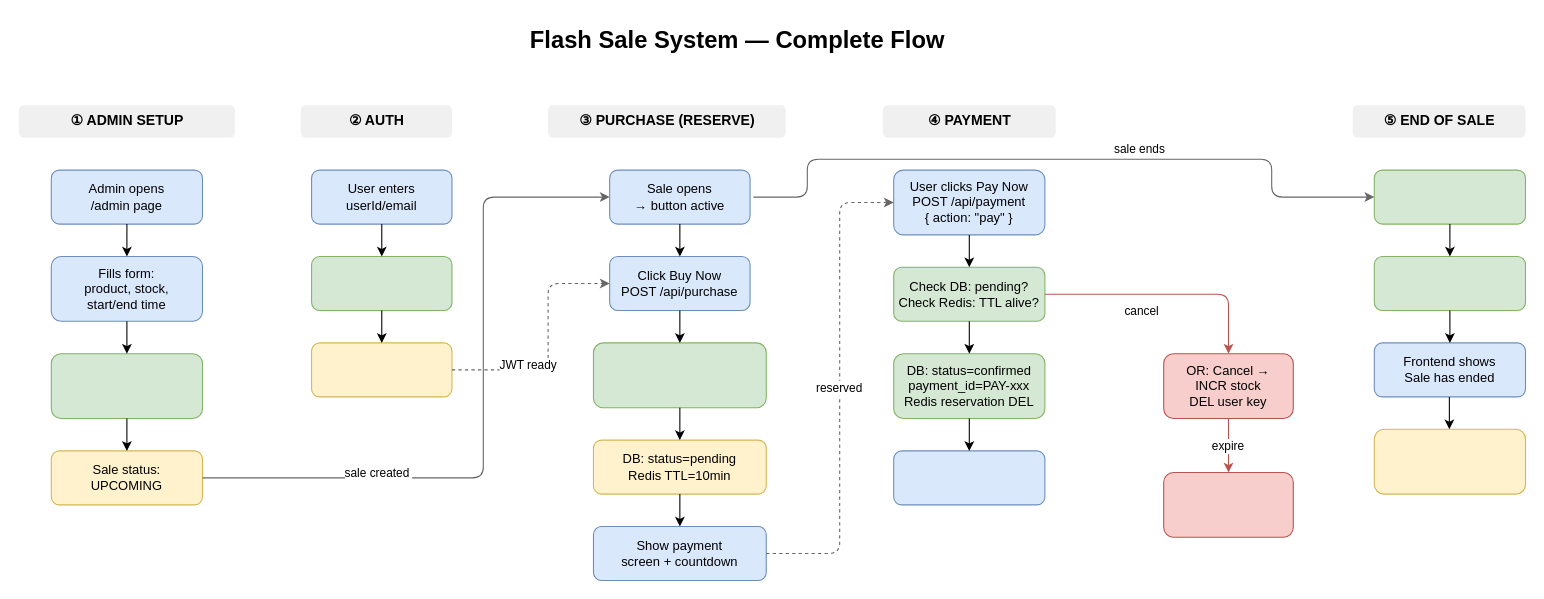
Some shapes in this 1544 by 599 pixel diagram are drawn without their labels. Each missing label, with the centre of its shape:
"Buy Now disabled New sale can be created in /admin" goes at pixel 1449 461.
"end_time reached server time check" goes at pixel 1449 196.
"Gate 1: sale active? Gate 2: SETNX (dedup) Gate 3: DECR (stock)" goes at pixel 679 375.
"GET /api/sale → status=ended" goes at pixel 1449 282.
"JWT stored in memory" goes at pixel 381 369.
"OR: Expire → cleanup job restores slot" goes at pixel 1228 504.
"POST /admin/sale → DB cleared → Redis seeded" goes at pixel 126 385.
"POST /auth/token → JWT signed" goes at pixel 381 282.
"Show: Purchase confirmed + ref" goes at pixel 969 477.
